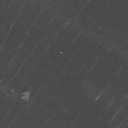corrosion: (21, 90, 31, 101)
